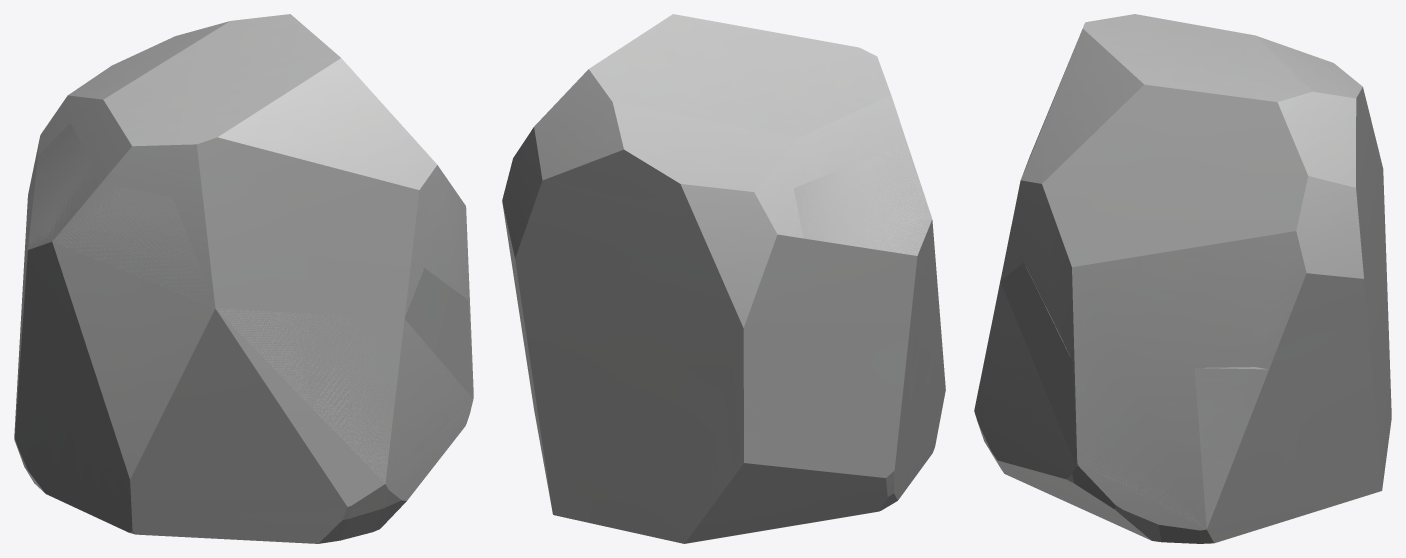
File: Ore_Basic_01.fbx
3 renders of one model, left to right at view 1: azimuth 30°, elevation 25°; view 2: azimuth 150°, elevation 25°; view 3: azimuth 270°, elevation 25°, orthographic.
Visible parts, largest first — view 1: rockA_base, rockA_break1; view 2: rockA_base, rockA_break1; view 3: rockA_base, rockA_break1.
Boxes of the visible parts, x1,y1,x2,y2 form: rockA_base: (14, 14, 473, 543); rockA_break1: (28, 123, 473, 483); rockA_base: (502, 14, 945, 543); rockA_break1: (686, 144, 931, 540); rockA_base: (974, 14, 1391, 543); rockA_break1: (975, 262, 1378, 529).
Size of the model in its own units: 1.66 by 1.72 by 1.58.
